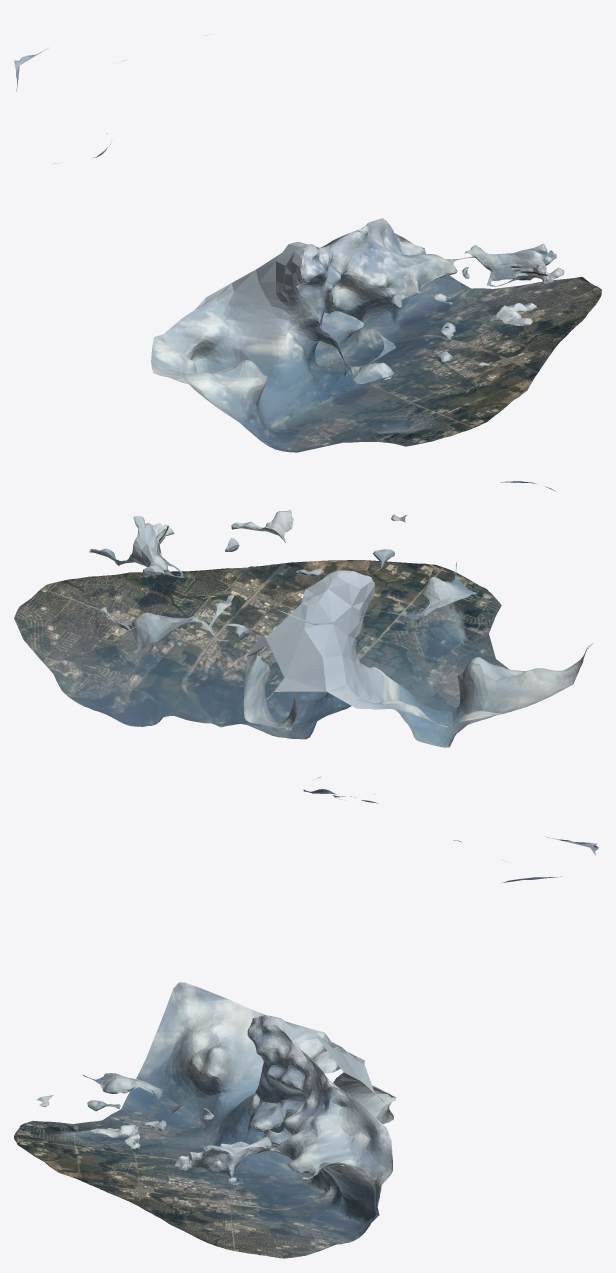
The model's file is cloudsabovetexas.gltf.
3 renders of one model, top to bottom at view 1: azimuth 30°, elevation 25°; view 2: azimuth 150°, elevation 25°; view 3: azimuth 270°, elevation 25°, orthographic. The views are drawn at different scales.
Bounding box in the file's own units: 5.94 × 3.06 × 5.76.
1 material, 1 textured.
